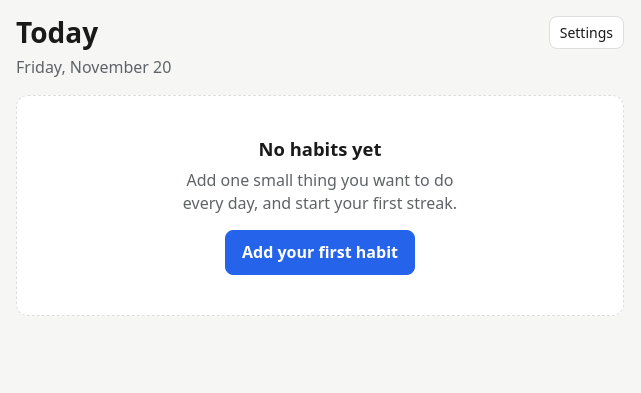
it: Today page › cancel closes the form without adding
Click the button "Add your first habit" at (320, 252), box [225, 230, 415, 274]
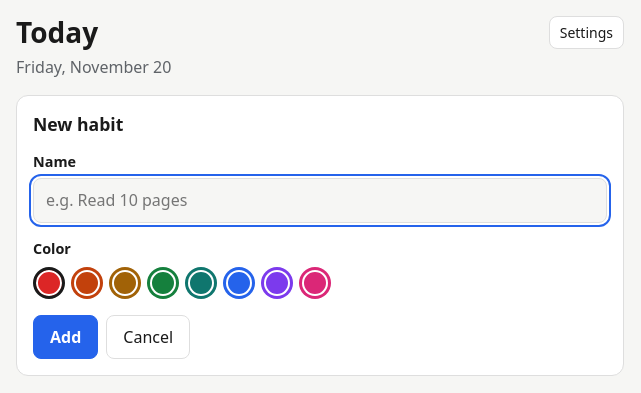
Type "Read" into the field labelled "Name" at (320, 201), box [33, 178, 607, 223]
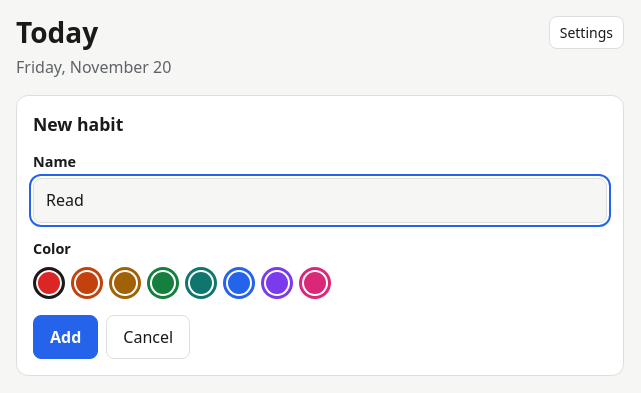
Click the button "Cancel" at (148, 337), box [106, 315, 190, 359]
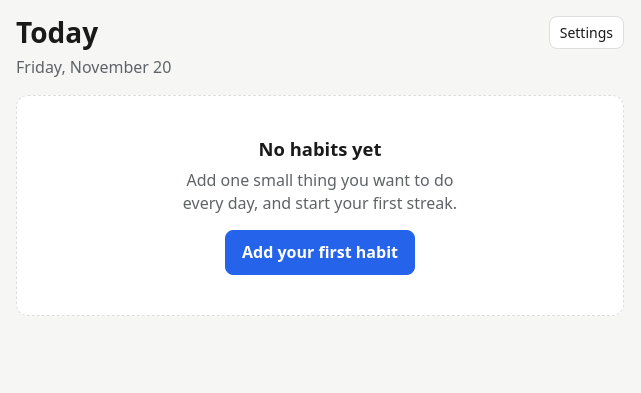
Expected: the label labelled "Name" is gone
Expected: the text "No habits yet" is shown, [259, 136, 381, 161]
